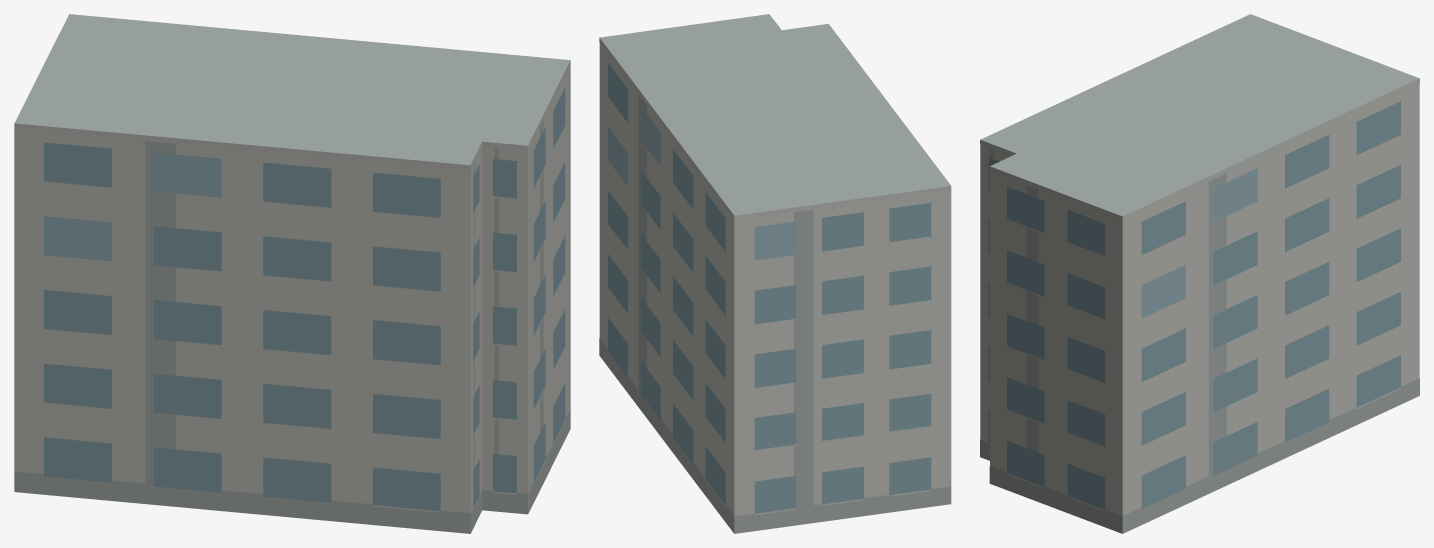
File: survey-upis-32752298.glb
The picture shows the model from 3 angles, left to right: view 1: azimuth 30°, elevation 25°; view 2: azimuth 150°, elevation 25°; view 3: azimuth 270°, elevation 25°; orthographic projection. The views are drawn at different scales.
Parts seen in each view (by area): view 1: survey-upis-32752298.tmp; view 2: survey-upis-32752298.tmp; view 3: survey-upis-32752298.tmp.
Boxes of the visible parts, x1,y1,x2,y2 form: survey-upis-32752298.tmp: [14, 14, 570, 533]; survey-upis-32752298.tmp: [599, 14, 951, 533]; survey-upis-32752298.tmp: [980, 14, 1419, 533].
Size of the model in its own units: 21.49 by 15.7 by 19.72.
